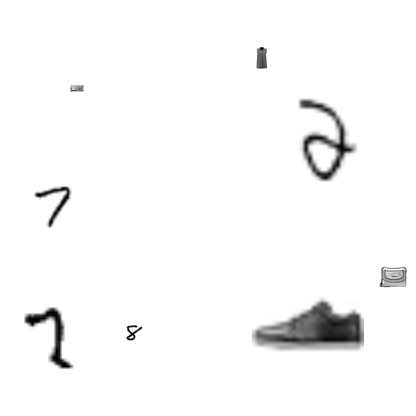2: (268, 84, 380, 196)
7: (7, 290, 91, 374), (27, 173, 83, 229)
8: (121, 321, 143, 343)
Bag: (379, 263, 407, 291), (70, 81, 84, 95)
Shirt: (251, 47, 273, 69)
Sneaker: (252, 266, 364, 378)
